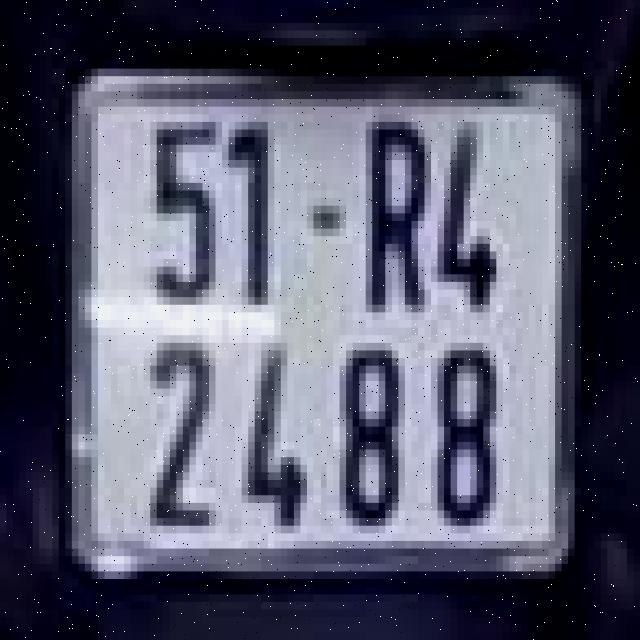1: (222, 95, 287, 316)
2: (137, 324, 216, 537)
4: (434, 110, 506, 324), (235, 324, 307, 529)
5: (150, 111, 229, 316)
8: (320, 328, 418, 533), (428, 332, 506, 530)
R: (356, 107, 434, 320)
